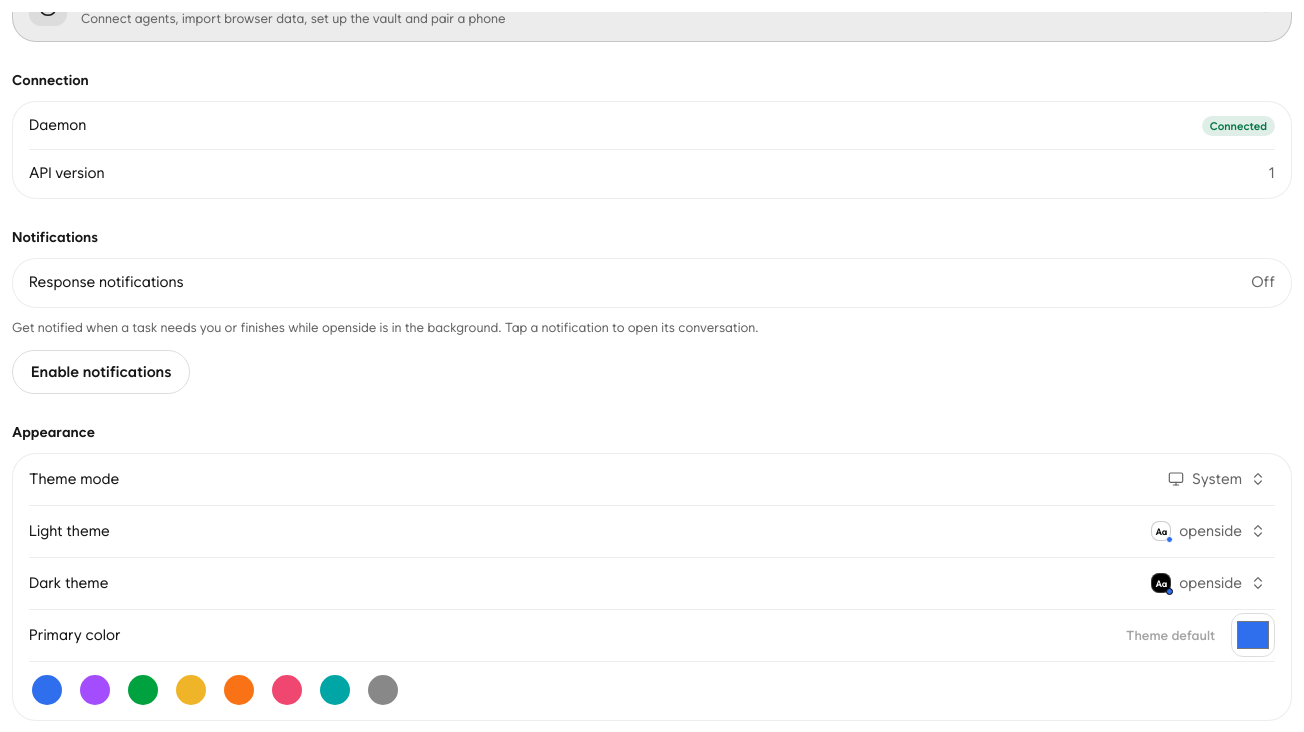
SettingsPage › enables notifications by registering the browser subscription with the daemon, then turns them off
(page scrolled)
Click the button "Enable notifications" at (101, 372), box [12,350,190,394]
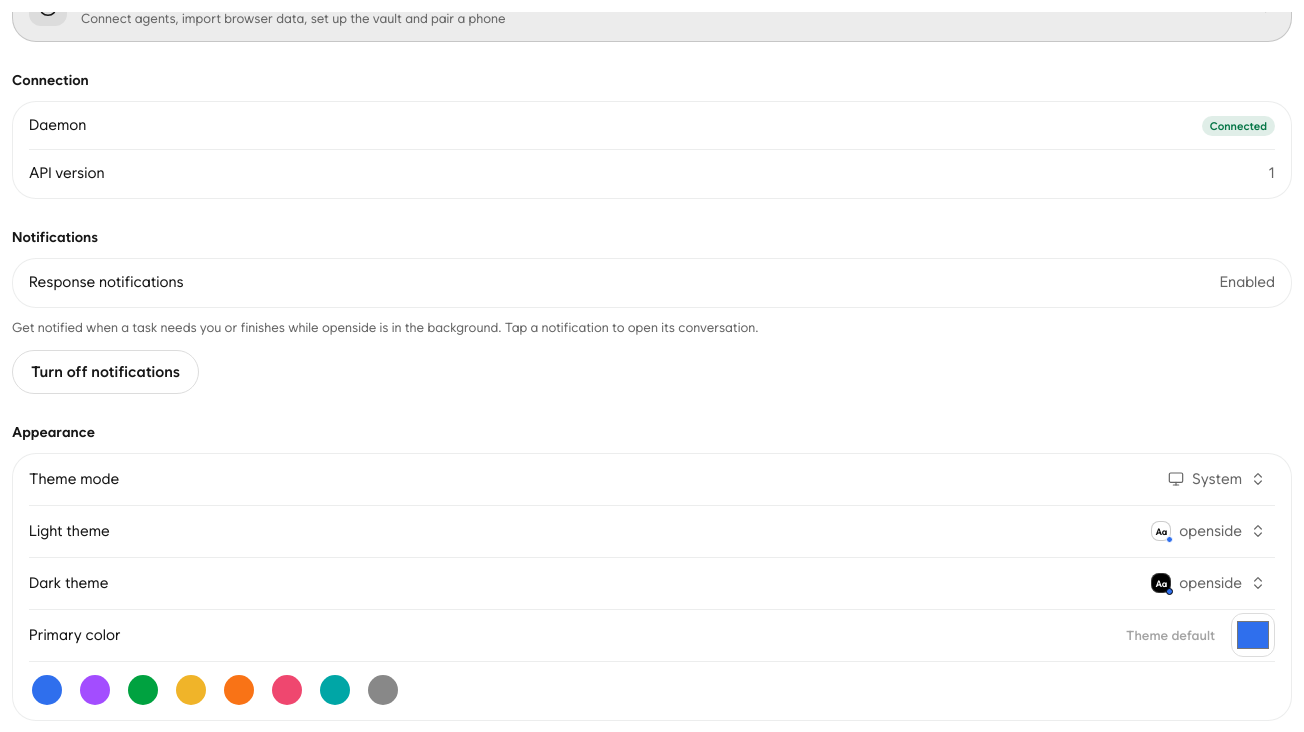
Result: the button "Turn off notifications" is shown
Result: the text "Enabled" is shown at [1220,272,1275,294]
Click the button "Turn off notifications" at (106, 372), box [12,350,199,394]
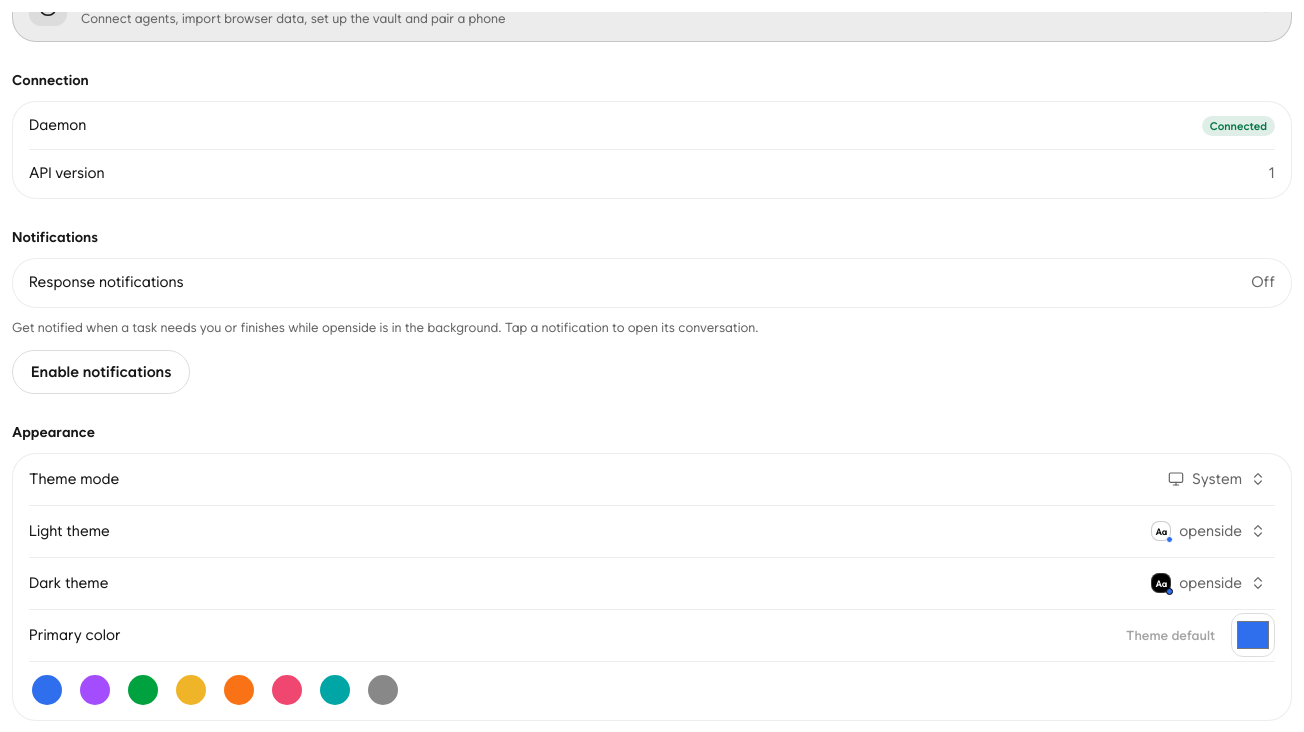
Result: the button "Enable notifications" is shown at [12,350,190,394]
